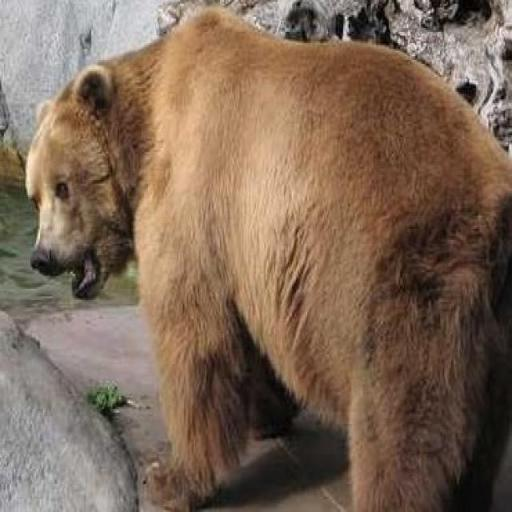Bear: (24, 4, 510, 510)
